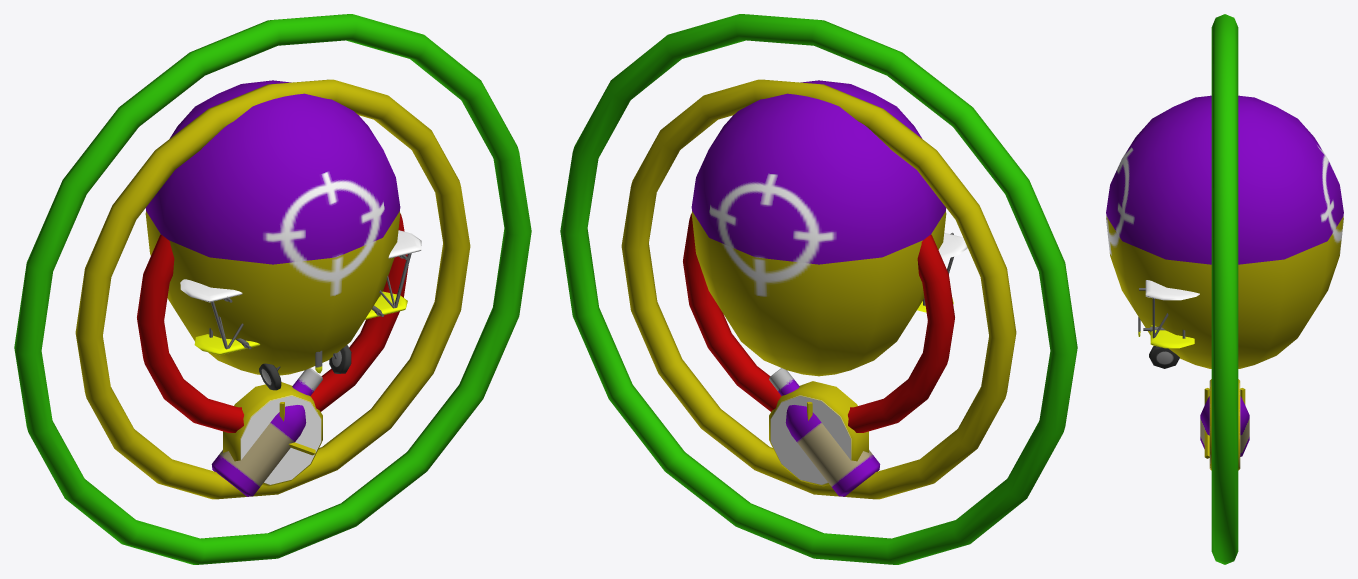
Rendered from UnityImport_BasicAssets.fbx.
3 renders of one model, left to right at view 1: azimuth 30°, elevation 25°; view 2: azimuth 150°, elevation 25°; view 3: azimuth 270°, elevation 25°, orthographic. The views are drawn at different scales.
Parts seen in each view (by area): view 1: Ring_Easy, Balloon_Shoot_Drink, Ring_Medium, Balloon_Shoot_Time, Ring_Hard, Plane_Static; view 2: Ring_Easy, Balloon_Shoot_Drink, Ring_Medium, Balloon_Shoot_Time, Ring_Hard, Plane_Static; view 3: Balloon_Shoot_Drink, Balloon_Shoot_Time, Ring_Easy, Plane_Static, L_Wheel.
Boxes of the visible parts, bbox=[...] form: Ring_Easy: bbox=[14, 14, 531, 564]; Balloon_Shoot_Drink: bbox=[145, 80, 400, 496]; Ring_Medium: bbox=[75, 79, 470, 499]; Balloon_Shoot_Time: bbox=[145, 211, 400, 486]; Ring_Hard: bbox=[137, 213, 408, 432]; Plane_Static: bbox=[180, 230, 421, 370]; Ring_Easy: bbox=[560, 14, 1077, 564]; Balloon_Shoot_Drink: bbox=[691, 80, 946, 496]; Ring_Medium: bbox=[621, 79, 1016, 499]; Balloon_Shoot_Time: bbox=[691, 211, 946, 486]; Ring_Hard: bbox=[683, 213, 954, 432]; Plane_Static: bbox=[917, 233, 967, 312]; Balloon_Shoot_Drink: bbox=[1106, 95, 1343, 456]; Balloon_Shoot_Time: bbox=[1106, 216, 1343, 470]; Ring_Easy: bbox=[1211, 14, 1238, 564]; Plane_Static: bbox=[1145, 280, 1199, 348]; L_Wheel: bbox=[1149, 346, 1179, 368].
Bounding box in the file's own units: 42 × 42 × 18.
